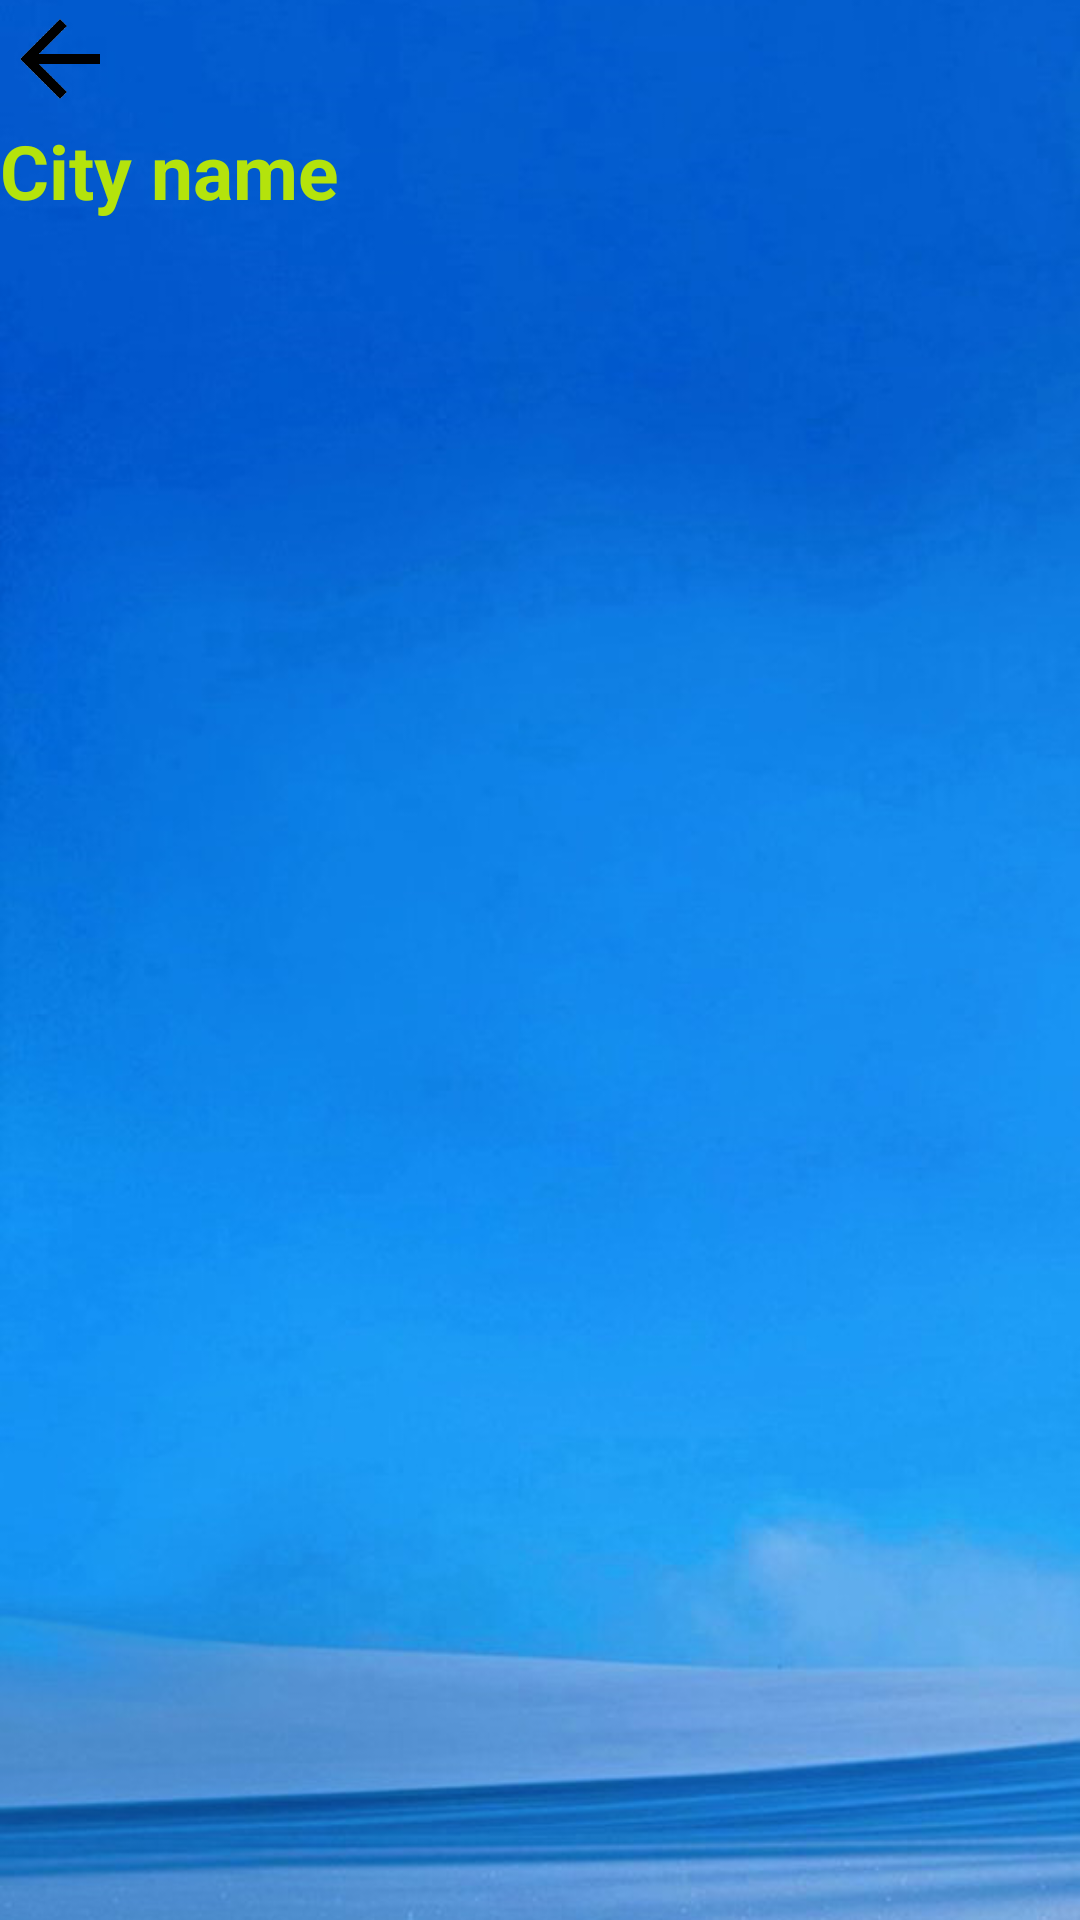

Icons on this 1080 x 1920 Android screen, each with the point to tap as (x,y):
back: (60,59)
